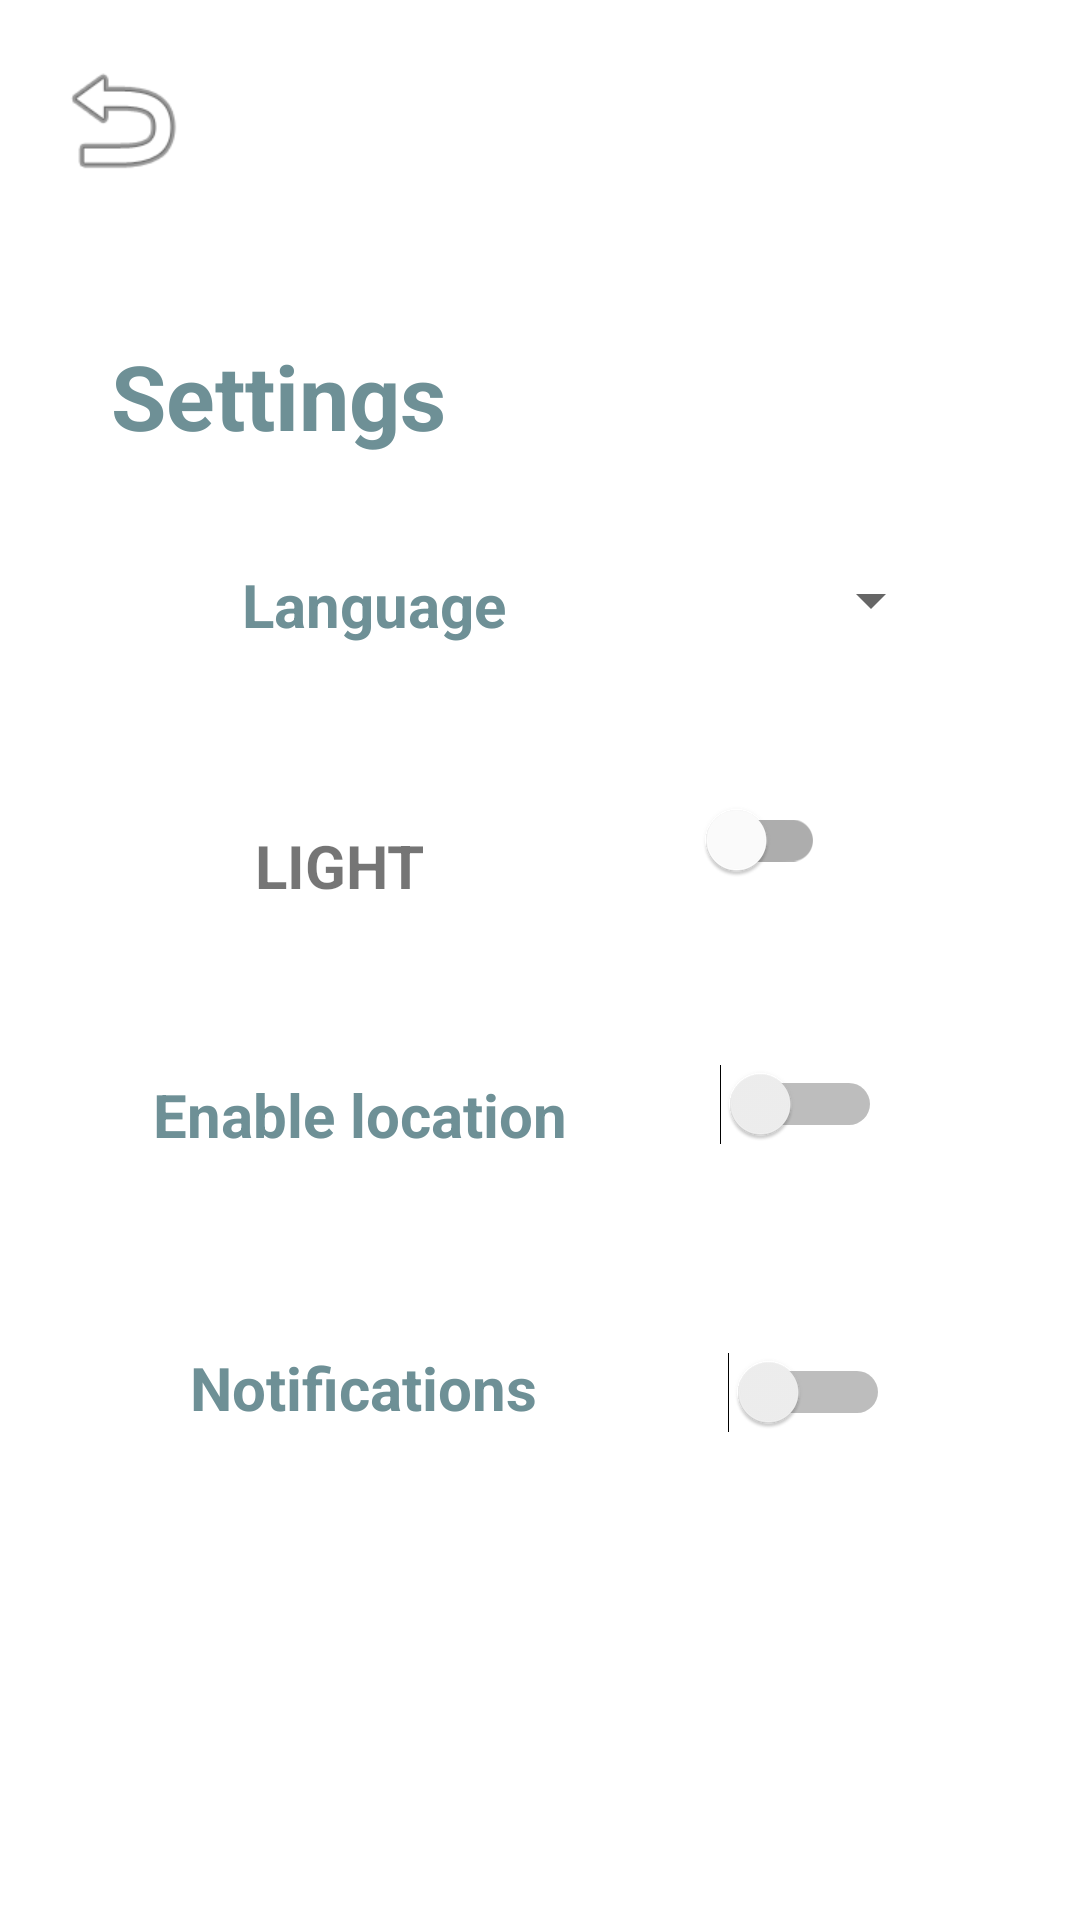

Icon click points for this 1080px x 1920px phone screenshot, format point (x, y):
revert: point (124, 121)
